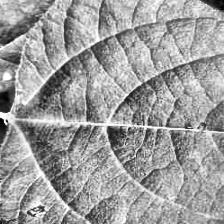ALS: (4, 0, 224, 224)
